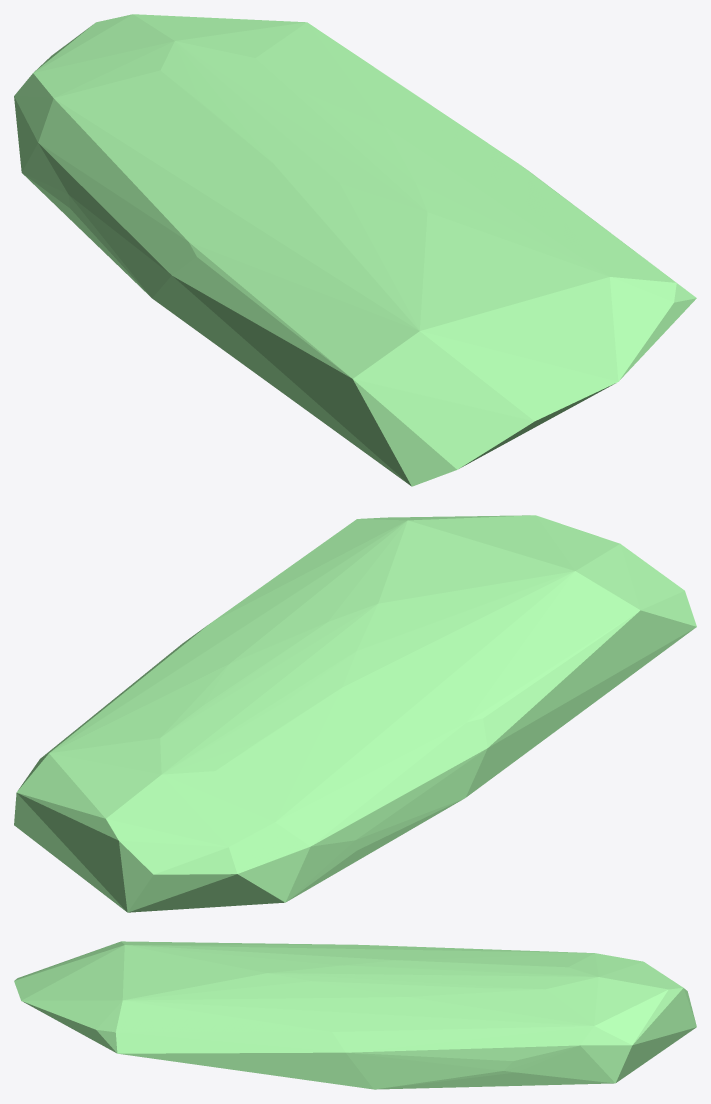
The model's file is linkhou_LR4_R560_link5_respondable_coll_6.dae.
3 renders of one model, top to bottom at view 1: azimuth 30°, elevation 25°; view 2: azimuth 150°, elevation 25°; view 3: azimuth 270°, elevation 25°, orthographic. The views are drawn at different scales.
Parts seen in each view (by area): view 1: Node_00000209DB3AD9B0; view 2: Node_00000209DB3AD9B0; view 3: Node_00000209DB3AD9B0.
Part boxes in pixels (x1,y1,x2,y2): Node_00000209DB3AD9B0: (14,14,696,486); Node_00000209DB3AD9B0: (14,515,696,912); Node_00000209DB3AD9B0: (14,941,696,1089).
Size of the model in its own units: 0.0839 by 0.0259 by 0.2077.
